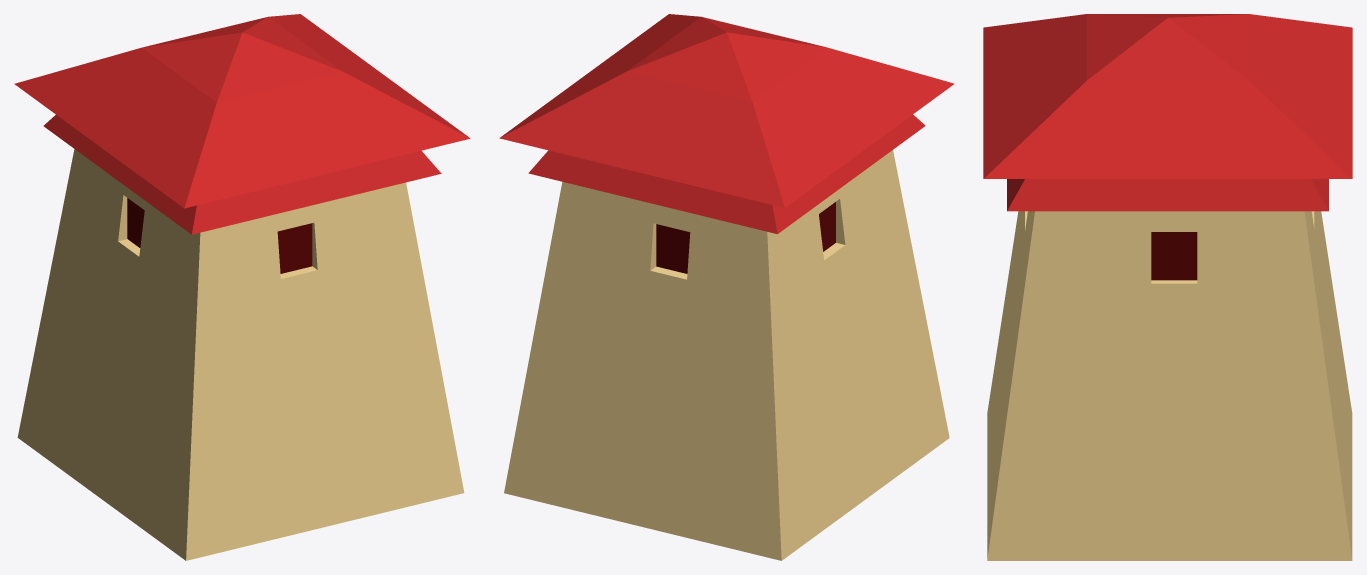
File: house2.FBX
The picture shows the model from 3 angles, left to right: view 1: azimuth 30°, elevation 25°; view 2: azimuth 150°, elevation 25°; view 3: azimuth 270°, elevation 25°; orthographic projection. The views are drawn at different scales.
Parts seen in each view (by area): view 1: Box027; view 2: Box027; view 3: Box027.
Part boxes in pixels (bbox=[...]): Box027: bbox=[14, 14, 470, 560]; Box027: bbox=[499, 14, 954, 560]; Box027: bbox=[983, 14, 1352, 560].
Size of the model in its own units: 14.04 by 20.3 by 14.45.
